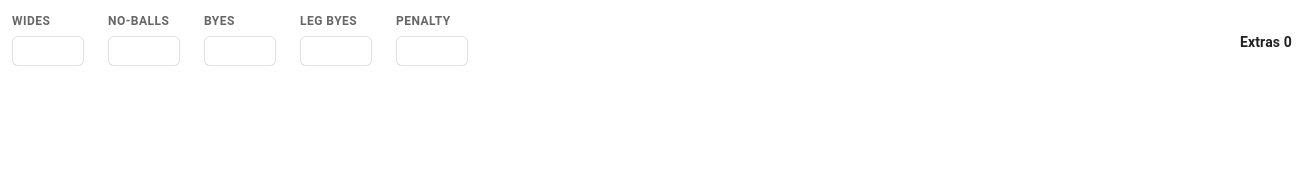
Test: ExtrasFields › sends the part that changed and updates the sum
Type "5" into the field named "Byes, Riverside 1st XI" at (240, 51), box [205,37,275,65]
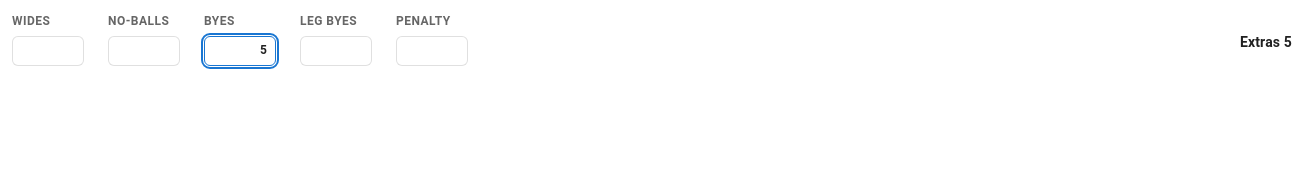
Check: the text "Extras 5" is shown, box [1240,34,1292,50]
